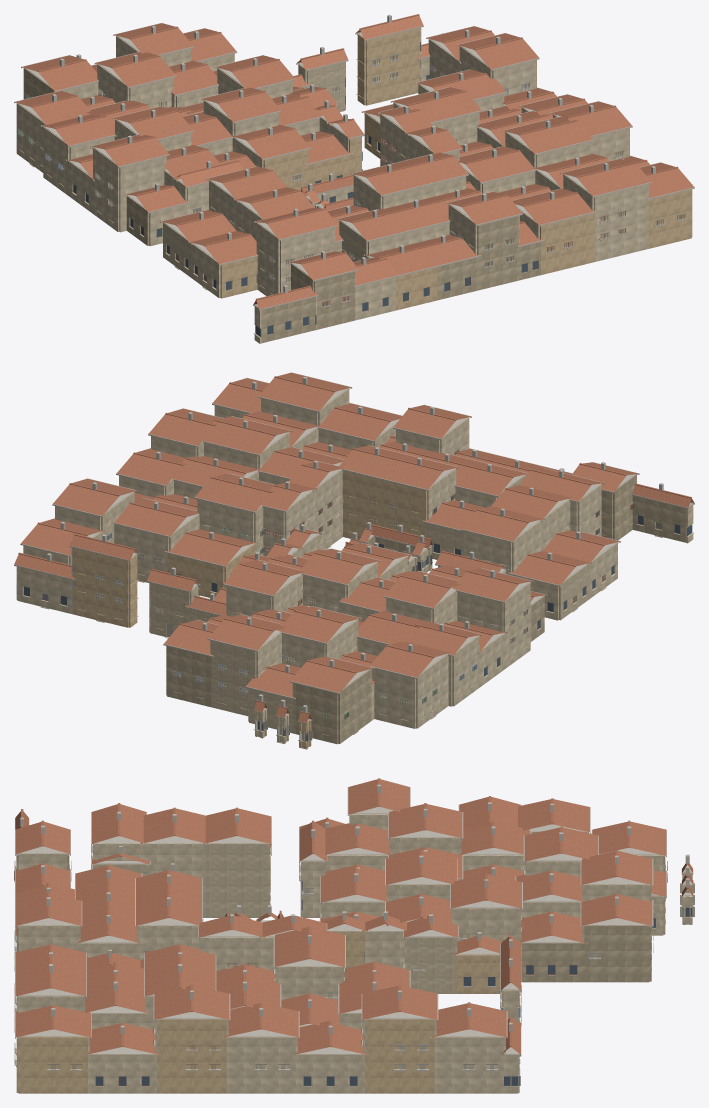
Rendered from sud_est.glb.
3 renders of one model, top to bottom at view 1: azimuth 30°, elevation 25°; view 2: azimuth 150°, elevation 25°; view 3: azimuth 270°, elevation 25°, orthographic. The views are drawn at different scales.
Visible parts, largest first — view 1: Coppi, Pareti, MuriCiechi, Pietra, Legno, Vetro; view 2: Coppi, Pareti, MuriCiechi, Pietra, Legno, Vetro; view 3: Coppi, Pareti, MuriCiechi, Pietra, Legno, Vetro.
Boxes of the visible parts, box(x1,y1,x2,y2) form: Coppi: box(14, 14, 694, 309); Pareti: box(23, 28, 692, 343); MuriCiechi: box(16, 27, 649, 343); Pietra: box(14, 14, 694, 337); Legno: box(17, 41, 685, 335); Vetro: box(73, 75, 537, 336); Coppi: box(14, 372, 694, 722); Pareti: box(16, 406, 690, 749); MuriCiechi: box(24, 388, 693, 728); Pietra: box(14, 372, 694, 742); Legno: box(16, 448, 686, 741); Vetro: box(24, 515, 692, 741); Coppi: box(15, 778, 692, 1054); Pareti: box(16, 843, 693, 1093); MuriCiechi: box(16, 814, 663, 1053); Pietra: box(14, 784, 693, 1085); Legno: box(14, 845, 694, 1086); Vetro: box(95, 907, 692, 1085).
Size of the model in its own units: 81.06 by 14.4 by 98.24.
35 materials, 19 textured.
